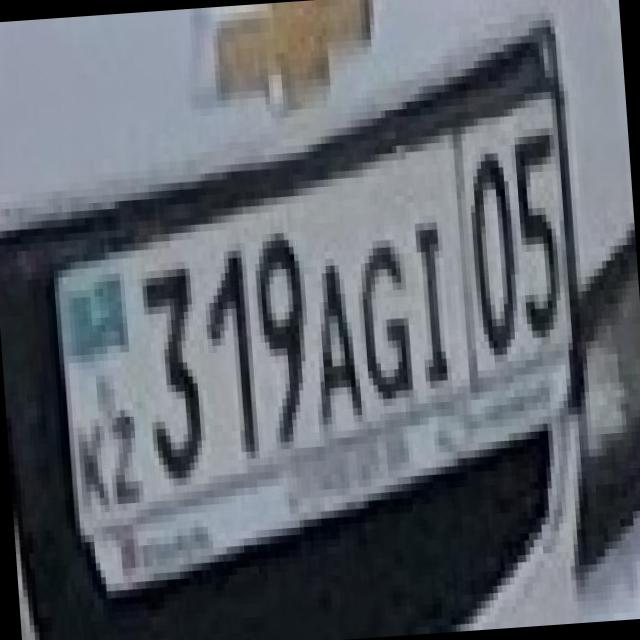0: (452, 130, 529, 350)
1: (186, 222, 259, 454), (391, 199, 460, 383)
3: (126, 247, 208, 480)
5: (494, 105, 571, 332)
9: (234, 216, 315, 444)
A: (288, 242, 362, 426)
G: (340, 224, 418, 401)
